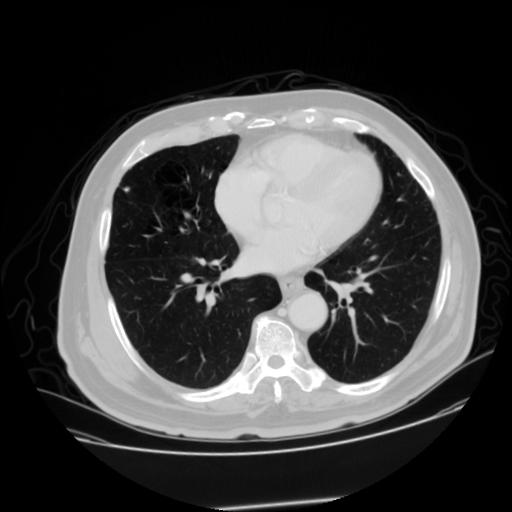nodule: (120, 184, 132, 196)
